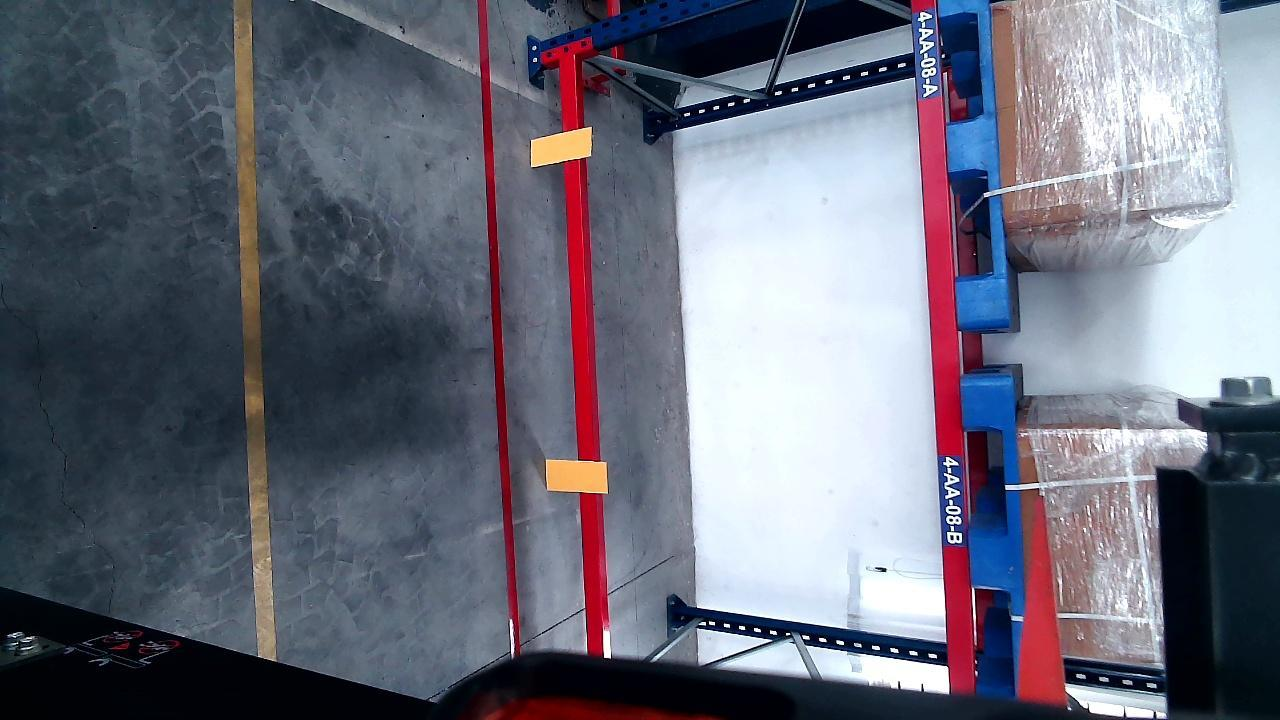red_line: (477, 1, 518, 653)
yellow_line: (233, 1, 276, 667)
